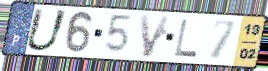5: (103, 14, 133, 55)
6: (64, 9, 95, 55)
7: (208, 18, 237, 61)
L: (172, 18, 199, 59)
U: (23, 6, 70, 53)
V: (138, 13, 173, 59)
